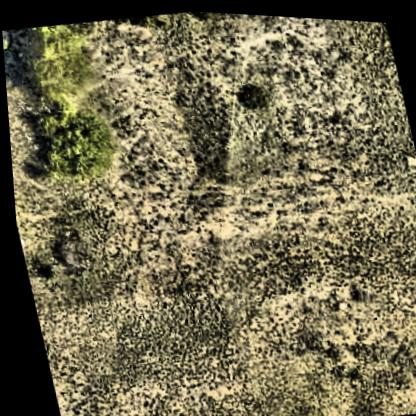tree-top: (1, 19, 106, 114), (20, 93, 125, 184), (234, 74, 270, 109)
